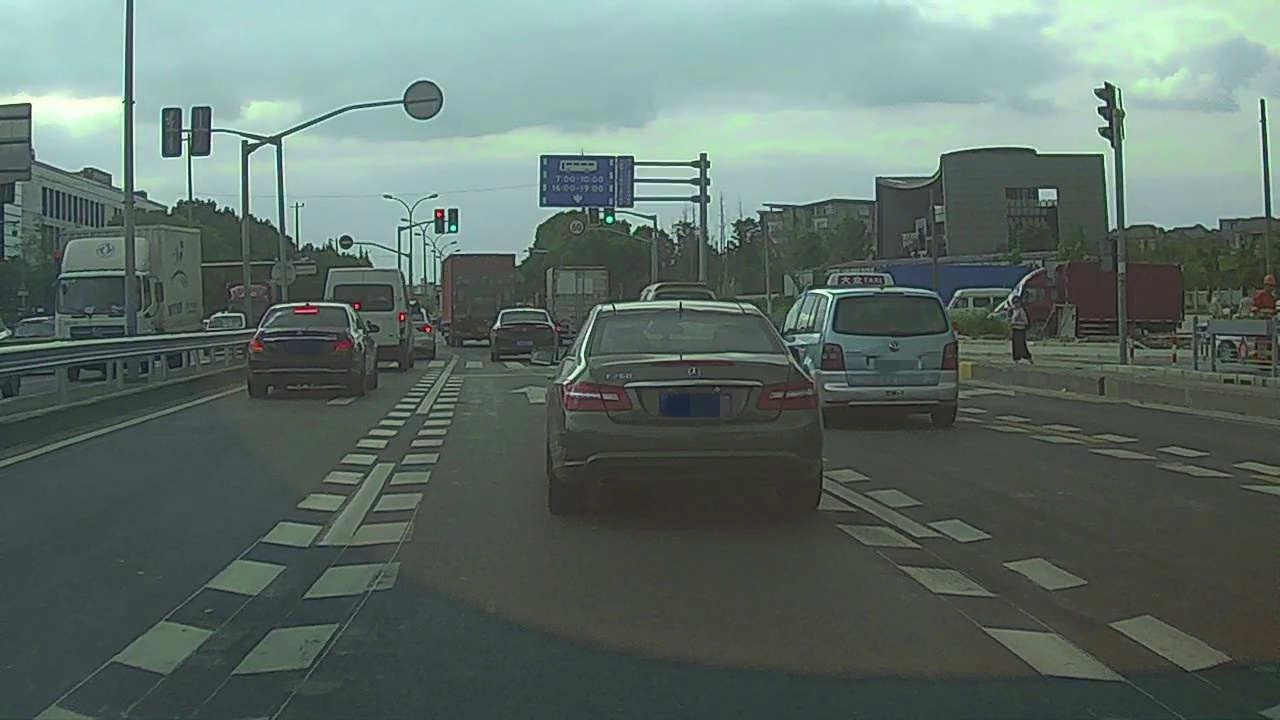traffic_light: (606, 207, 616, 227), (434, 210, 443, 232), (589, 207, 599, 225), (450, 210, 458, 232)
